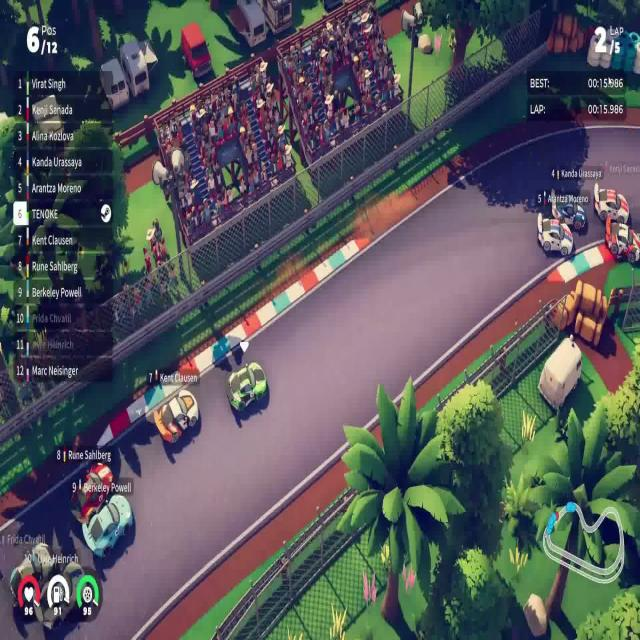car: (81, 492, 133, 560), (70, 460, 115, 524), (153, 388, 199, 446), (227, 359, 267, 414), (604, 214, 640, 264), (536, 211, 573, 258), (592, 181, 630, 225), (550, 190, 587, 231)
